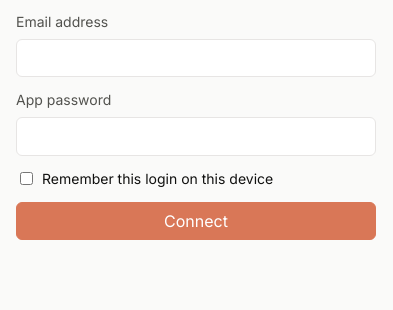
LoginForm › shows a provider hint once a known domain is typed
Type "me@gmail.com" into the field labelled "Email address" at (196, 58), box [16,39,376,78]
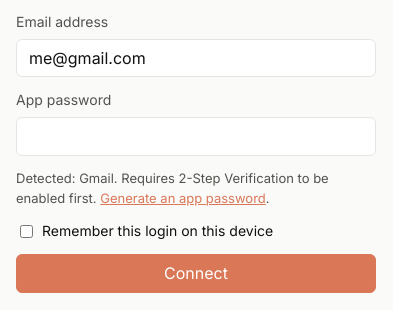
expect the text "Detected: Gmail" is shown: met, box [16,168,376,208]
